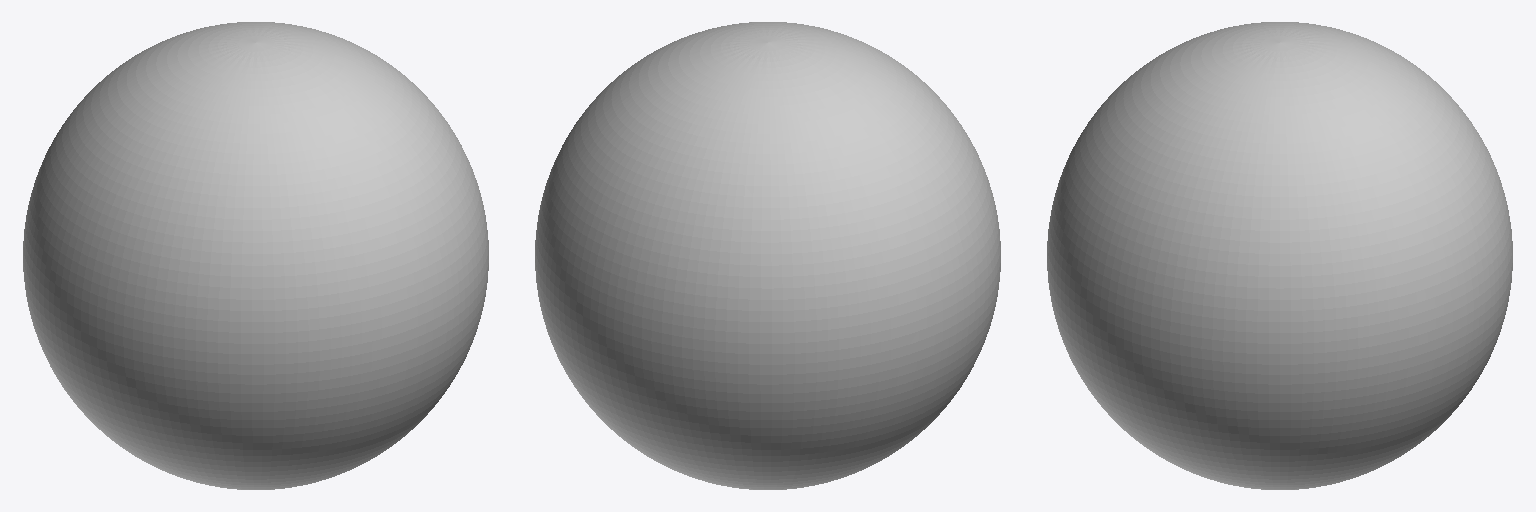
The model's file is sphere_deneme.obj.
3 views of the same model, side by side, from view 1: azimuth 30°, elevation 25°; view 2: azimuth 150°, elevation 25°; view 3: azimuth 270°, elevation 25° (orthographic).
Parts seen in each view (by area): view 1: Mesh; view 2: Mesh; view 3: Mesh.
Boxes of the visible parts, <box> form: Mesh: <box>23,22,488,489</box>; Mesh: <box>535,22,1000,489</box>; Mesh: <box>1047,22,1512,489</box>.
Bounding box in the file's own units: 1.48 × 1.5 × 1.48.